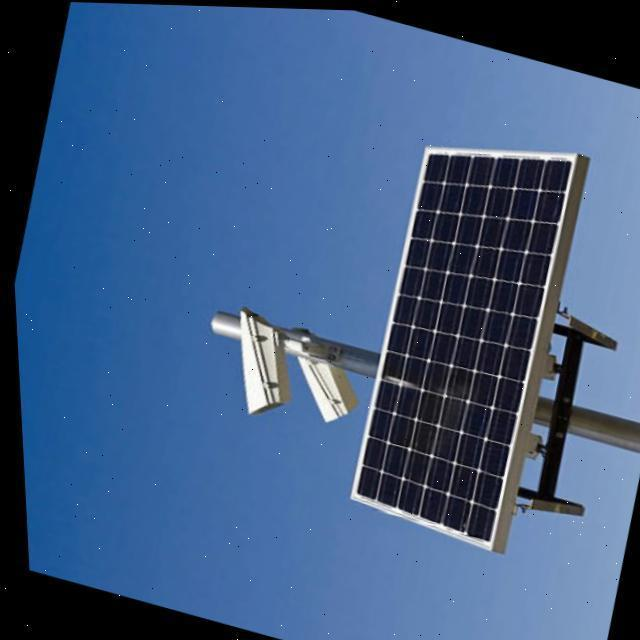Normal Solar Panel: (326, 107, 594, 548)
